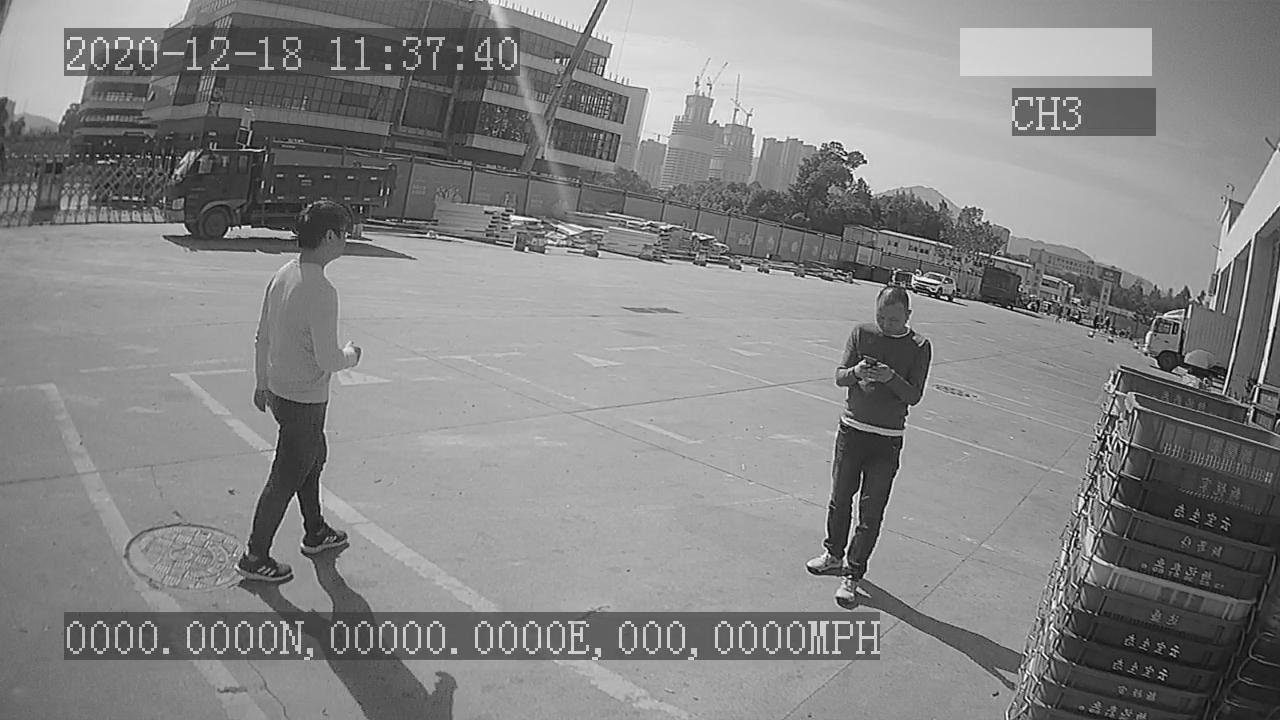person: (799, 282, 933, 602)
